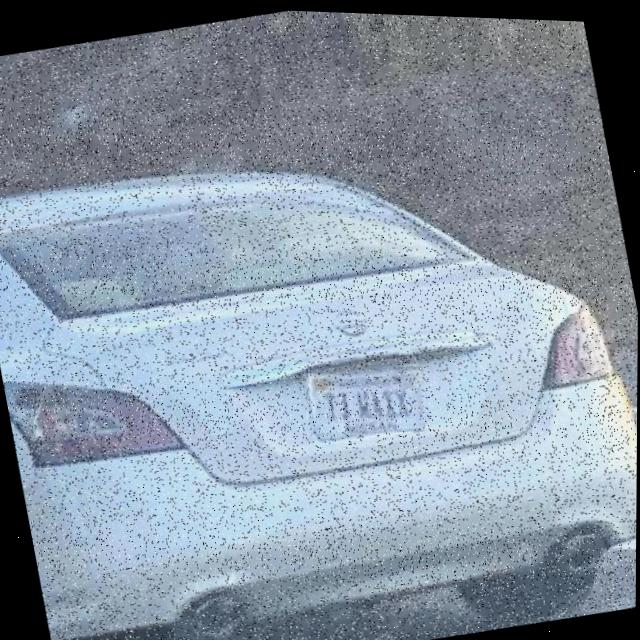LicensePlate: (306, 363, 428, 435)
